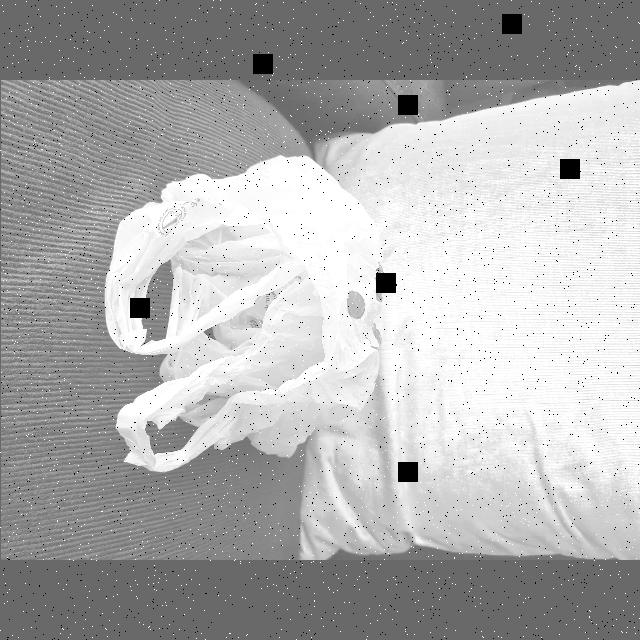plastic_bag: (85, 139, 408, 499)
